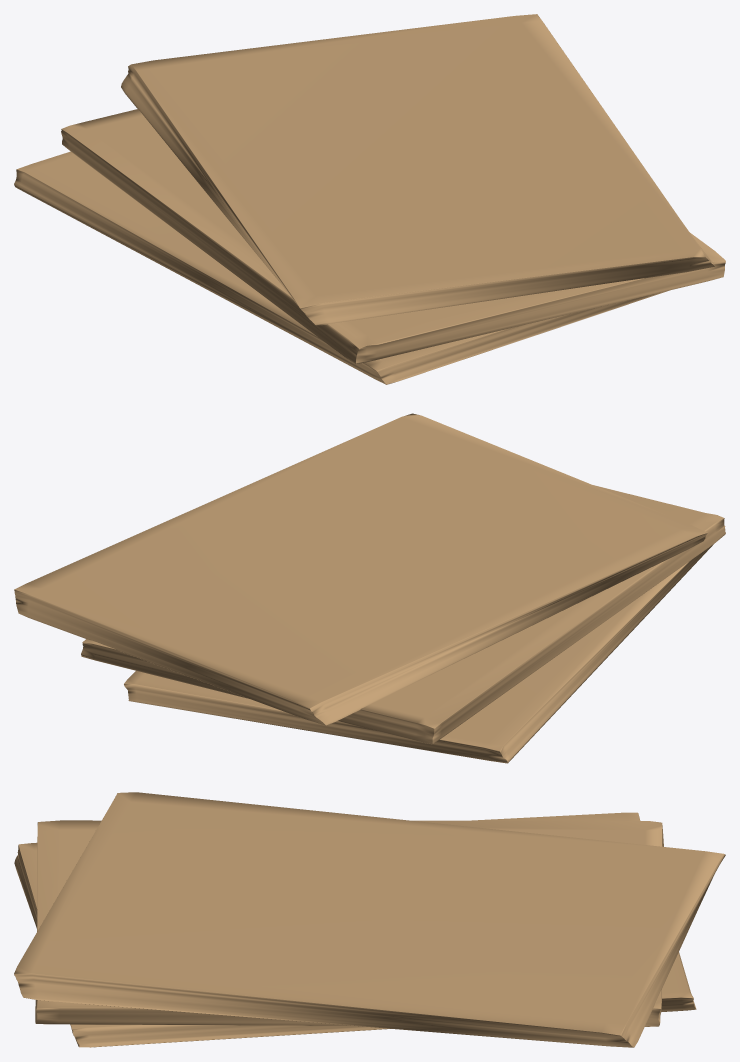
File: paper_stack_a03.glb
3 views of the same model, one above another, from view 1: azimuth 30°, elevation 25°; view 2: azimuth 150°, elevation 25°; view 3: azimuth 270°, elevation 25° (orthographic). The views are drawn at different scales.
Size of the model in its own units: 0.2971 by 0.0289 by 0.3393.
